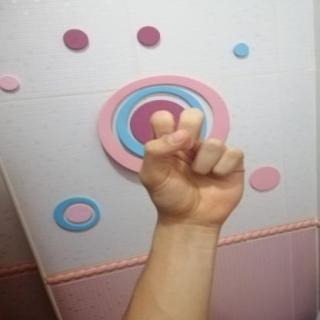QAAF: (122, 96, 269, 242)
